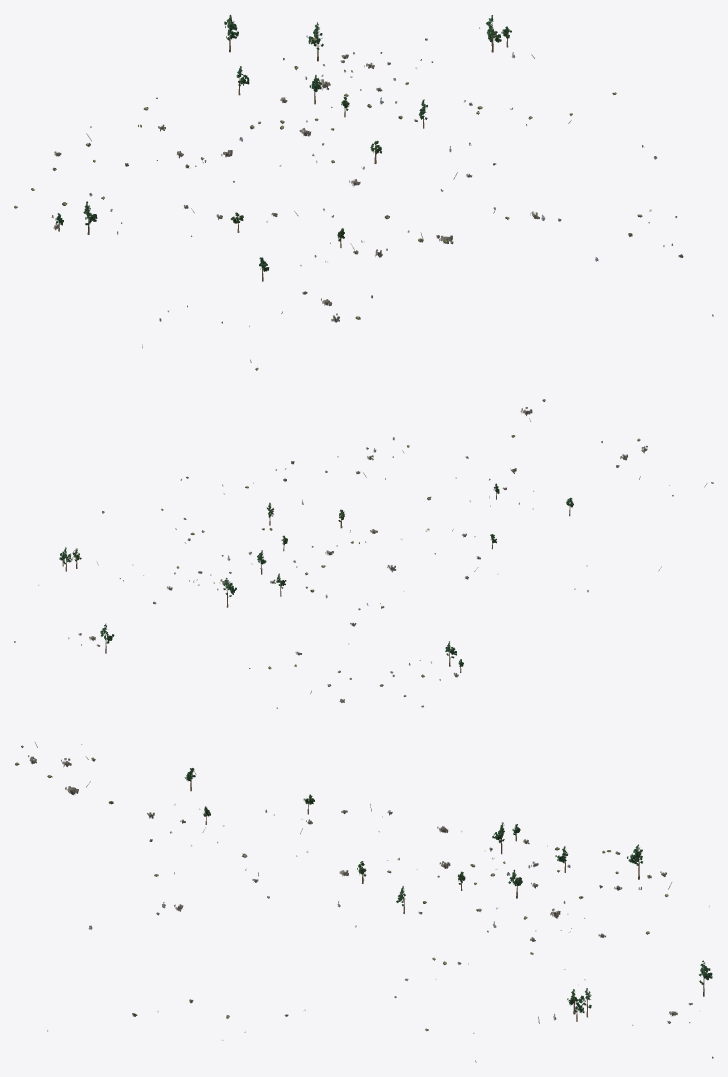
Rendered from coast_land_scatter_c09_23.glb.
The picture shows the model from 3 angles, top to bottom: view 1: azimuth 30°, elevation 25°; view 2: azimuth 150°, elevation 25°; view 3: azimuth 270°, elevation 25°; orthographic projection. The views are drawn at different scales.
Visible parts, largest first — view 1: coast_land_scatter_c09_23; view 2: coast_land_scatter_c09_23; view 3: coast_land_scatter_c09_23.
Boxes of the visible parts, bbox=[...] form: coast_land_scatter_c09_23: bbox=[14, 14, 713, 370]; coast_land_scatter_c09_23: bbox=[14, 399, 713, 708]; coast_land_scatter_c09_23: bbox=[15, 742, 713, 1062].
Size of the model in its own units: 237 by 56.47 by 254.
